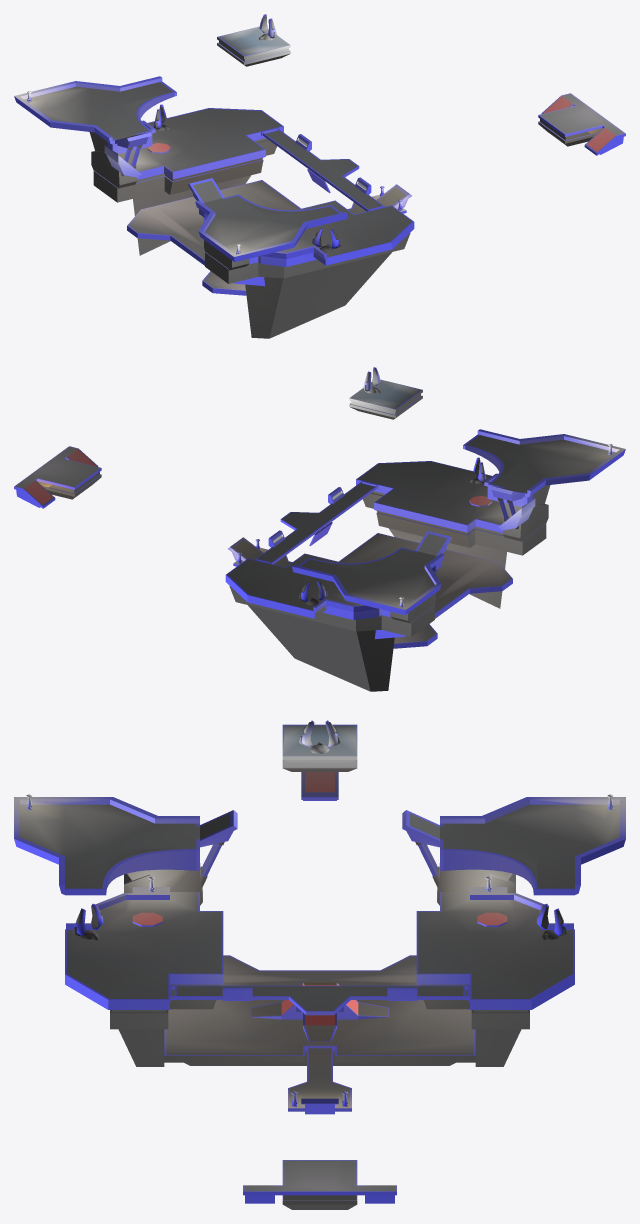
The picture shows the model from 3 angles, top to bottom: view 1: azimuth 30°, elevation 25°; view 2: azimuth 150°, elevation 25°; view 3: azimuth 270°, elevation 25°; orthographic projection. The views are drawn at different scales.
Size of the model in its own units: 127 by 65.35 by 99.26.
